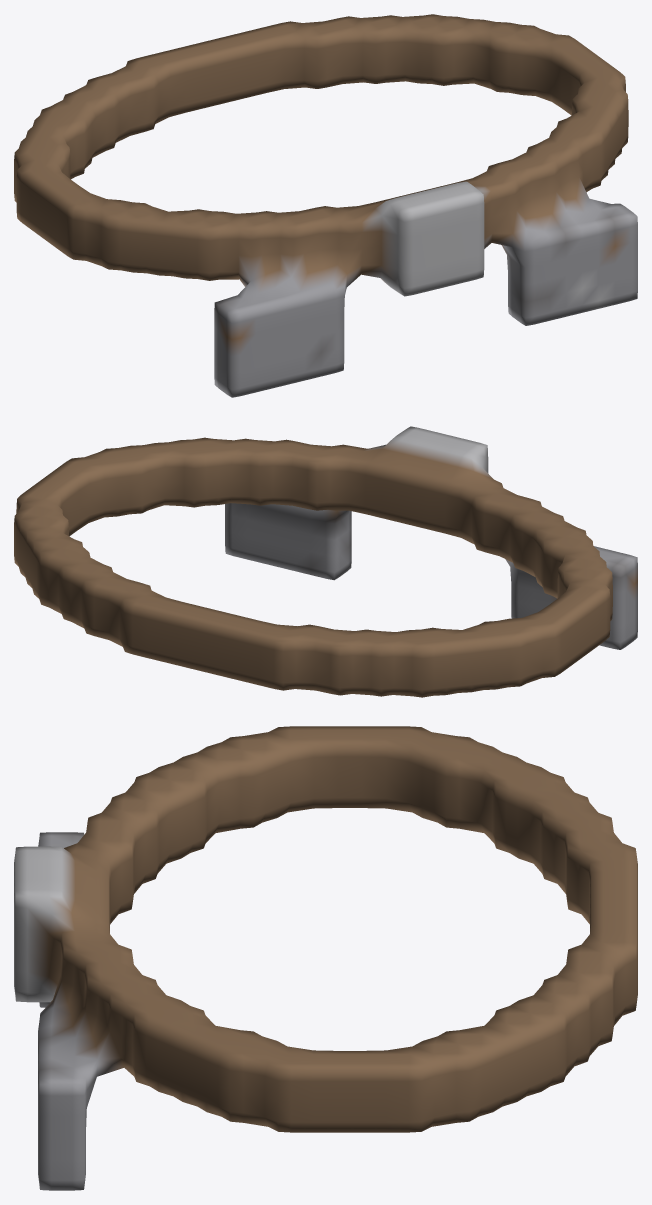
Rendered from plate_uncommon_belt.glb.
3 renders of one model, top to bottom at view 1: azimuth 30°, elevation 25°; view 2: azimuth 150°, elevation 25°; view 3: azimuth 270°, elevation 25°, orthographic. The views are drawn at different scales.
Parts seen in each view (by area): view 1: plate_uncommon_belt; view 2: plate_uncommon_belt; view 3: plate_uncommon_belt.
Boxes of the visible parts, x1=… form: plate_uncommon_belt: x1=14, y1=14, x2=637, y2=397; plate_uncommon_belt: x1=14, y1=426, x2=637, y2=697; plate_uncommon_belt: x1=14, y1=726, x2=637, y2=1190.
Size of the model in its own units: 0.408 by 0.108 by 0.312.
